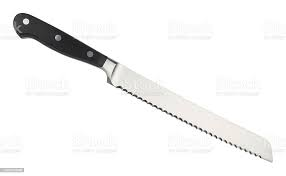knife: (11, 11, 275, 165)
